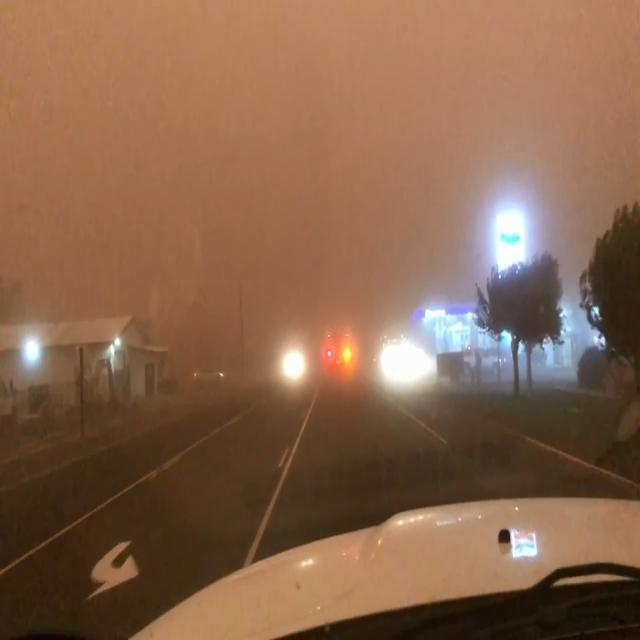Fire: (320, 304, 360, 378)
